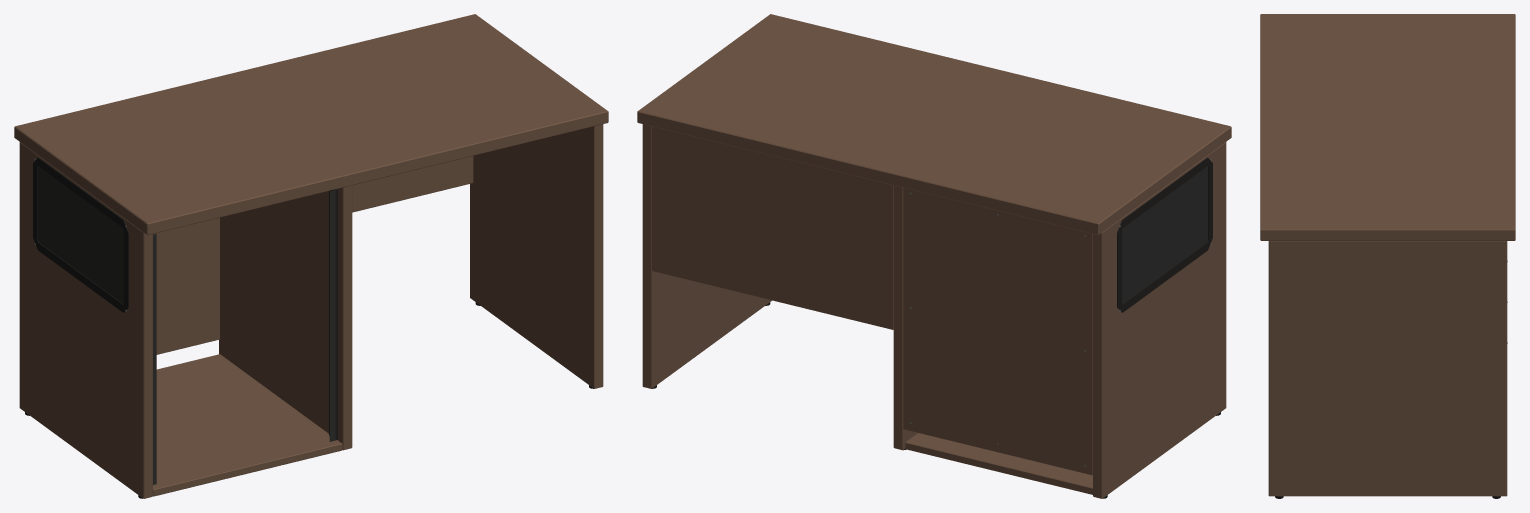
The model's file is equipment-rack-table-ac3a7c7a3011.glb.
3 renders of one model, left to right at view 1: azimuth 30°, elevation 25°; view 2: azimuth 150°, elevation 25°; view 3: azimuth 270°, elevation 25°, orthographic. The views are drawn at different scales.
Parts seen in each view (by area): view 1: wood, grille-mesh, enamel-black; view 2: wood, grille-mesh, enamel-black; view 3: wood.
Part boxes in pixels (x1,y1,x2,y2): wood: [14, 14, 608, 498]; grille-mesh: [38, 166, 335, 484]; enamel-black: [33, 157, 337, 440]; wood: [637, 14, 1231, 498]; grille-mesh: [1122, 166, 1207, 304]; enamel-black: [1117, 157, 1212, 312]; wood: [1260, 14, 1515, 496].
Bounding box in the file's own units: 1.2 × 0.7 × 0.6.
